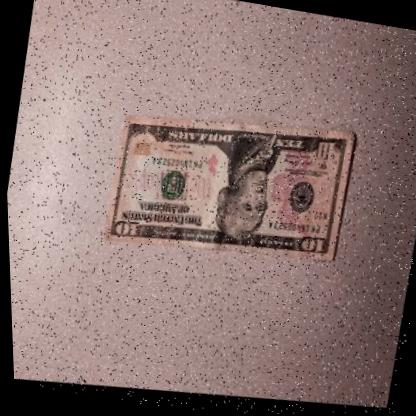dollar_front: (96, 94, 358, 284)
